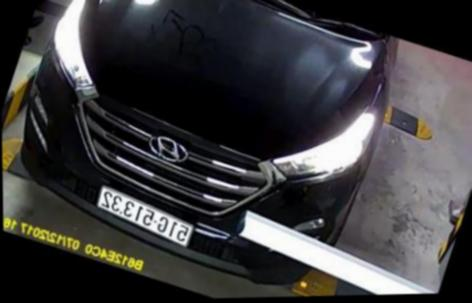License_Plate: (93, 182, 210, 250)
